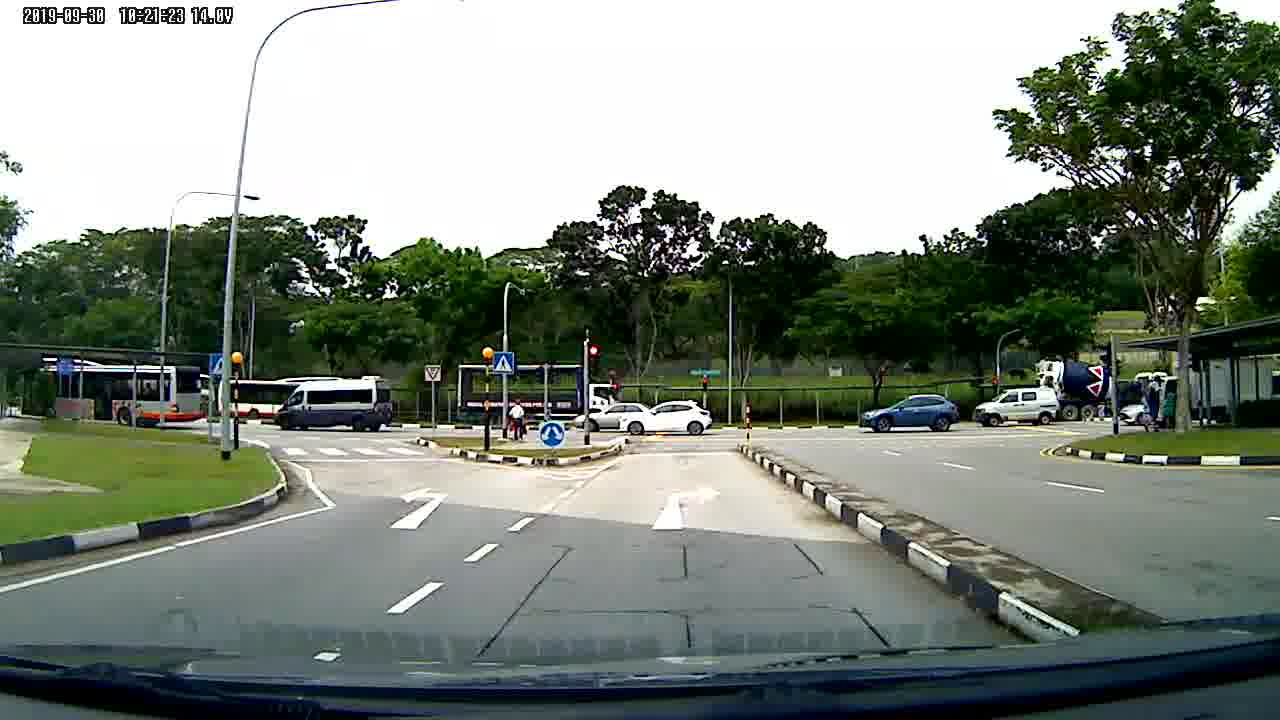bus: (17, 355, 203, 436)
car: (860, 394, 963, 439), (626, 400, 716, 436), (577, 401, 650, 438)
